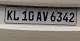numberplate: (4, 6, 78, 25)
